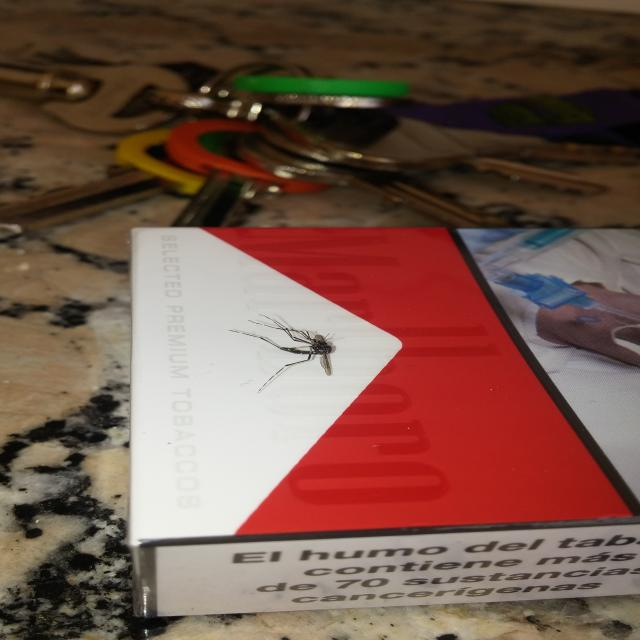albopictus: (223, 310, 353, 394)
